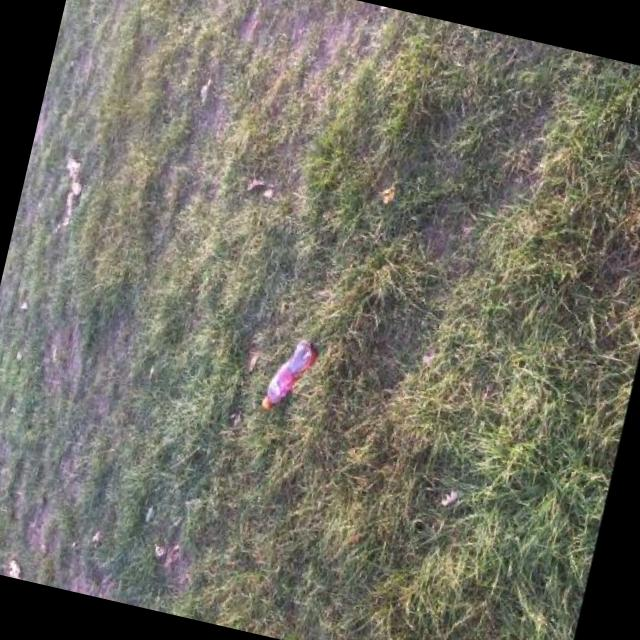plastic: (262, 334, 321, 418)
